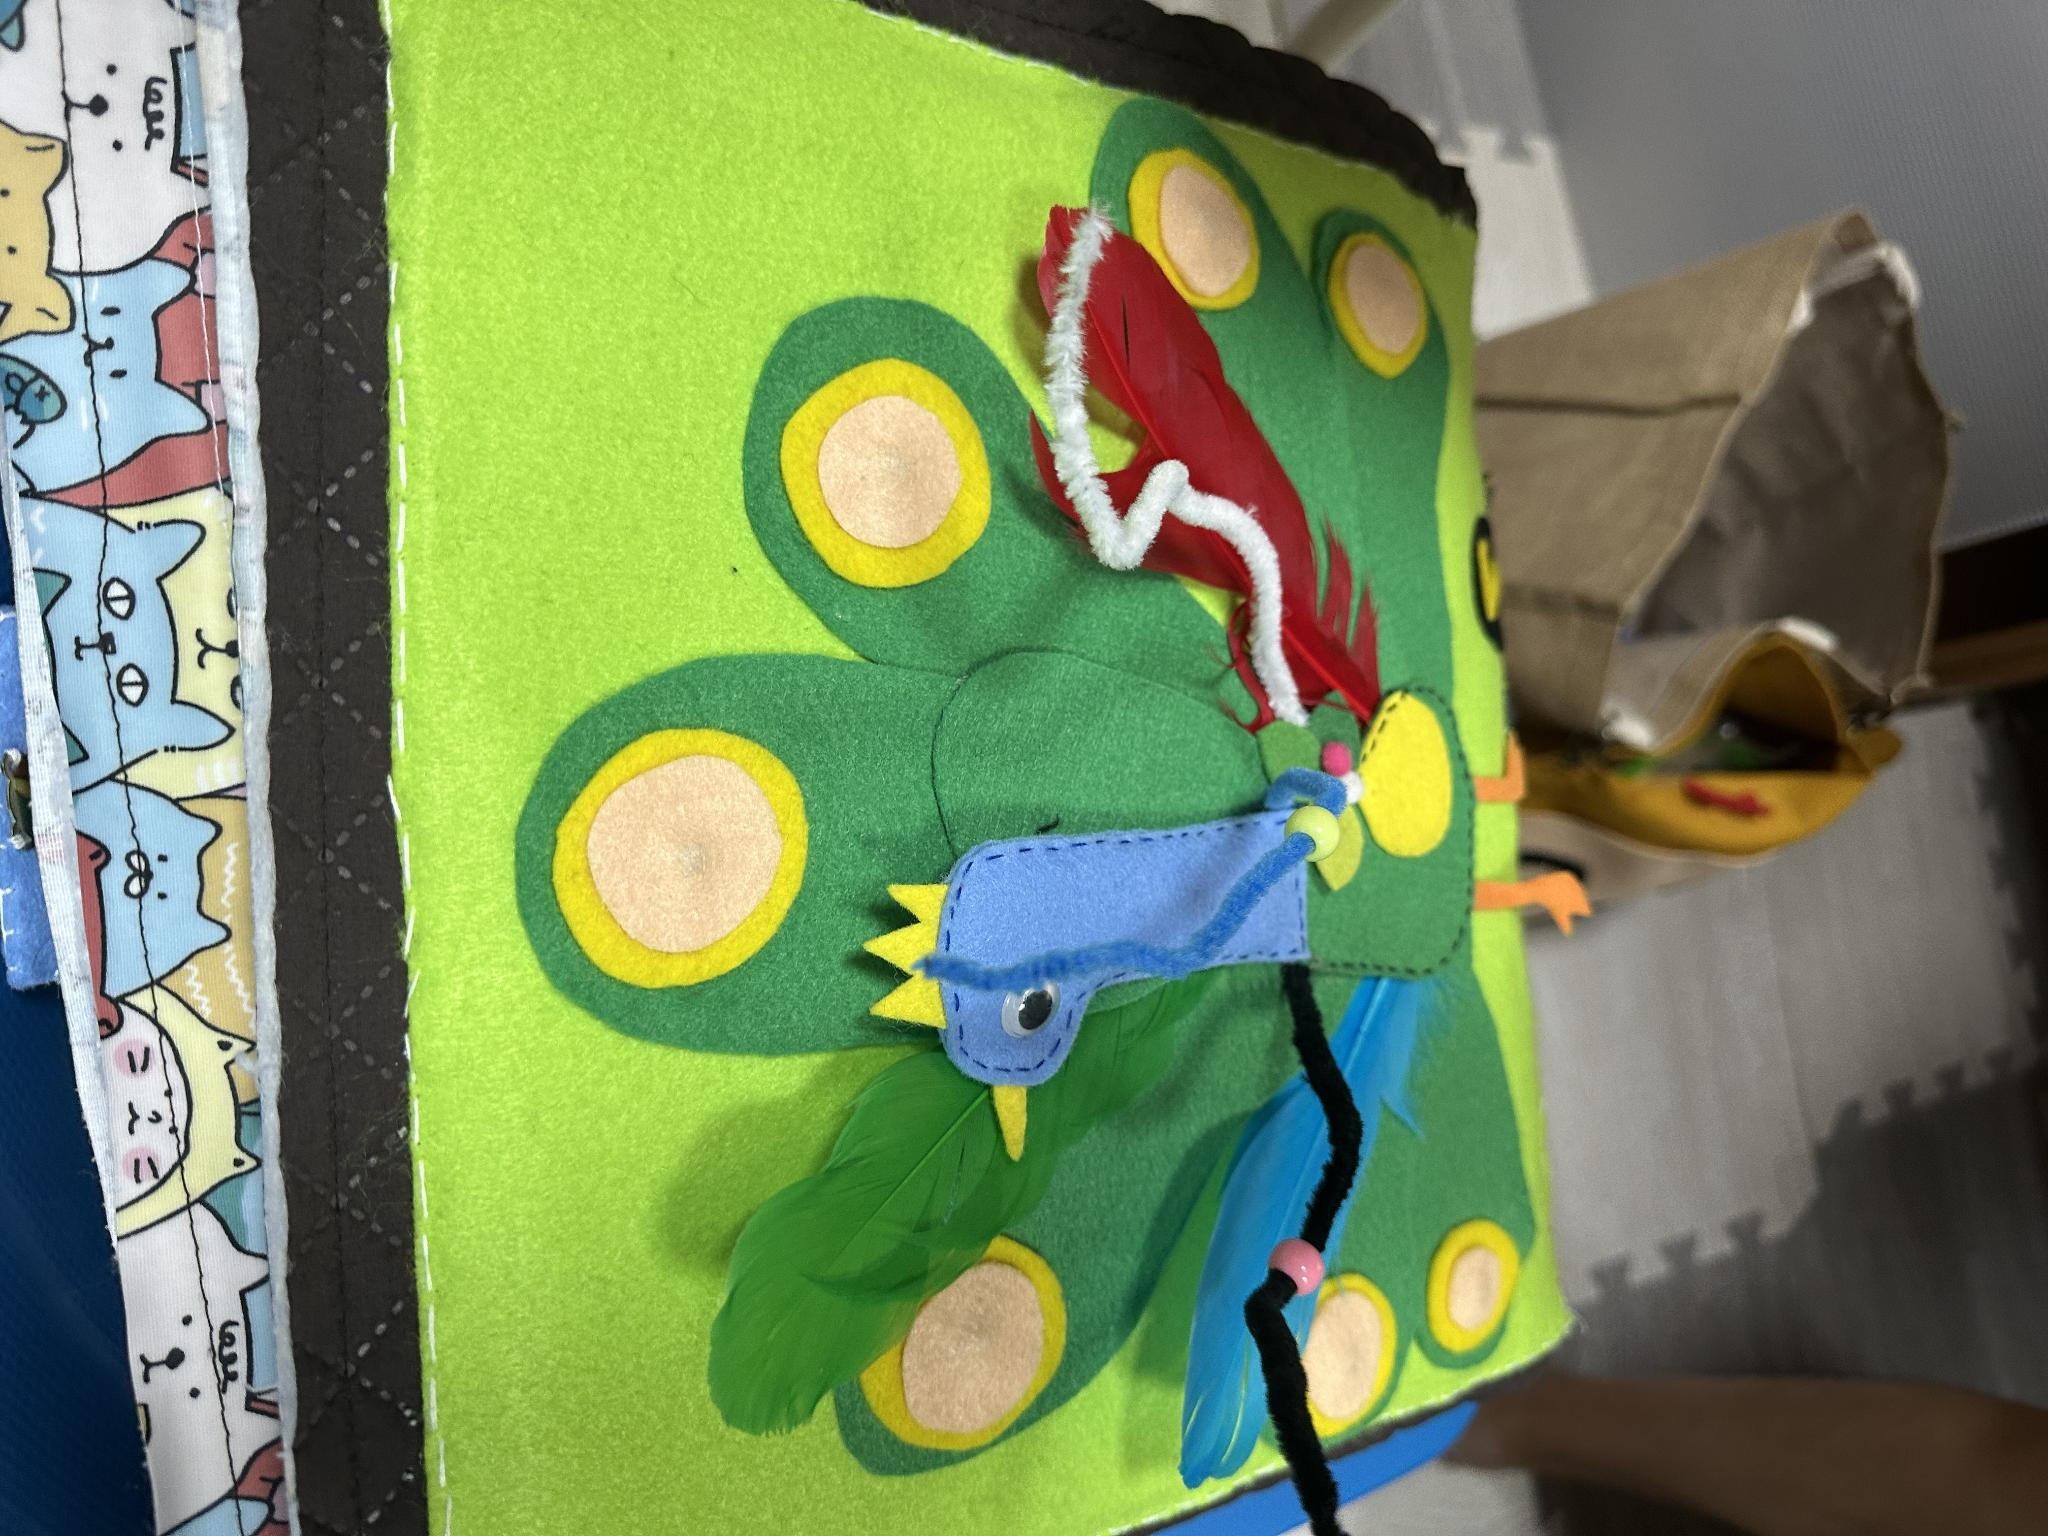bead: (1264, 1221, 1334, 1315), (1280, 794, 1348, 876)
